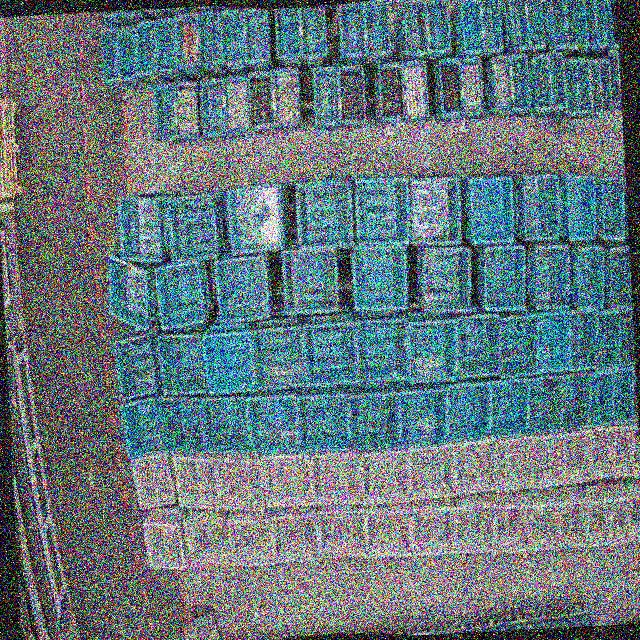Box: (212, 252, 274, 323), (352, 244, 412, 314), (355, 175, 413, 247), (418, 241, 474, 315), (295, 179, 355, 248), (167, 191, 222, 266), (226, 183, 285, 252), (282, 245, 340, 315), (106, 249, 153, 333), (115, 192, 169, 264), (252, 322, 308, 391), (154, 258, 209, 328), (155, 328, 208, 399), (355, 317, 413, 381), (202, 329, 258, 395), (348, 384, 402, 452), (302, 320, 359, 384), (297, 390, 352, 455), (411, 176, 463, 244), (155, 390, 209, 455), (248, 392, 302, 455), (112, 330, 160, 400), (409, 316, 459, 383), (172, 446, 223, 510), (262, 448, 316, 508), (453, 313, 502, 379), (217, 448, 266, 514), (470, 174, 516, 244), (480, 244, 528, 311), (397, 384, 449, 445), (202, 392, 253, 454), (226, 508, 278, 568), (183, 508, 232, 570), (362, 446, 413, 505), (271, 505, 321, 565), (119, 393, 165, 458), (129, 449, 178, 510), (497, 310, 542, 376), (313, 450, 363, 509), (447, 381, 494, 443), (317, 506, 368, 562), (411, 498, 458, 558), (411, 440, 458, 499), (522, 171, 562, 239), (454, 495, 499, 555), (366, 506, 415, 561), (493, 490, 535, 554), (144, 506, 186, 570), (532, 244, 572, 310), (454, 438, 498, 496), (492, 434, 537, 489), (528, 432, 570, 487), (537, 308, 573, 372), (490, 380, 531, 436), (573, 243, 607, 310), (526, 377, 565, 433), (564, 174, 597, 239), (558, 484, 592, 547), (530, 489, 564, 550), (560, 372, 594, 431), (599, 172, 628, 240), (562, 427, 597, 483), (587, 484, 617, 546), (200, 74, 228, 139), (175, 80, 203, 145), (274, 66, 302, 130), (588, 372, 619, 429), (570, 311, 600, 369), (595, 310, 625, 367), (607, 482, 635, 543), (339, 63, 366, 126), (403, 59, 431, 118), (379, 64, 407, 123), (608, 245, 633, 310), (244, 5, 272, 63), (610, 423, 639, 479), (225, 74, 251, 136), (314, 66, 340, 127), (589, 428, 620, 479), (403, 0, 432, 54), (300, 6, 330, 58), (249, 69, 275, 129), (440, 58, 465, 120), (155, 79, 180, 141), (462, 56, 487, 117), (341, 2, 368, 58), (508, 50, 532, 113), (220, 6, 246, 64), (365, 0, 392, 54), (175, 12, 201, 67), (612, 367, 638, 422), (490, 54, 513, 114), (427, 0, 453, 52), (276, 6, 302, 58), (198, 9, 222, 64), (462, 0, 487, 52), (156, 17, 179, 72), (481, 0, 505, 51), (548, 50, 567, 112), (99, 26, 120, 82), (119, 26, 140, 81), (136, 20, 157, 74), (533, 52, 552, 111), (618, 307, 637, 365), (563, 56, 581, 117), (525, 0, 547, 48), (510, 0, 531, 50), (550, 0, 570, 49), (607, 49, 623, 109), (587, 56, 602, 117), (563, 0, 582, 48), (576, 56, 590, 116), (597, 60, 612, 114), (627, 478, 640, 539), (583, 0, 600, 46), (594, 0, 610, 47), (609, 0, 621, 47)
